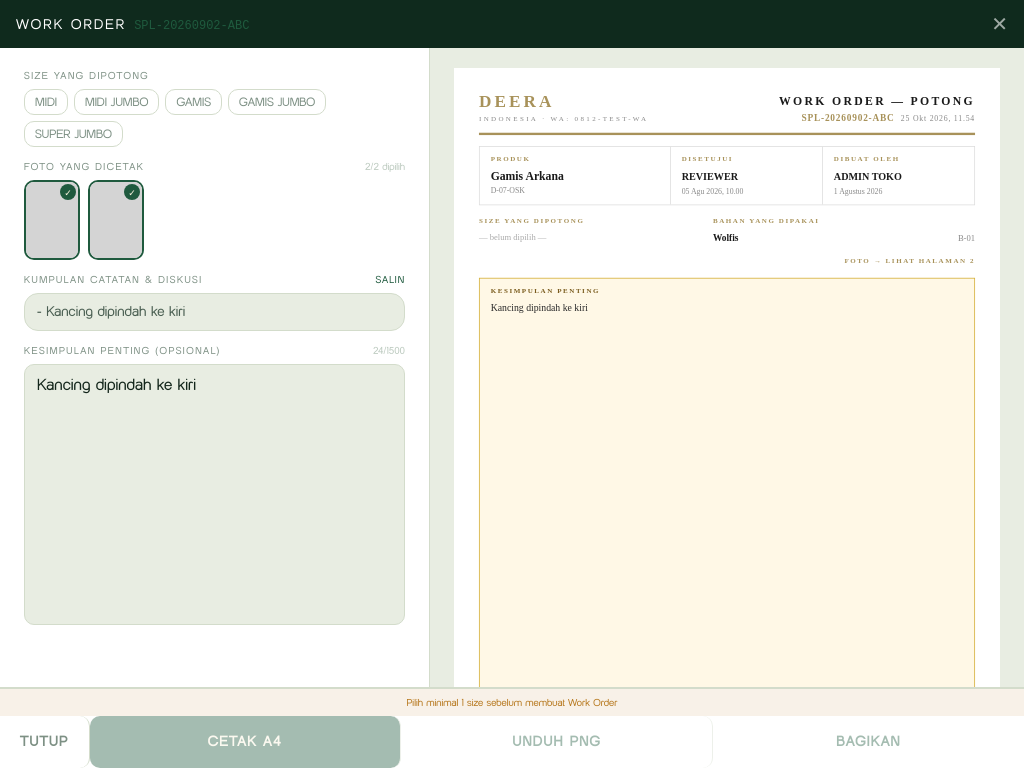
Test case: WorkOrderModal (permintaan Denny 2026-09: Work Order untuk tukang potong) › klik size lagi membatalkan pilihan (toggle)
The image size is (1024, 768).
Click the button "Midi" at (46, 102), box [24,89,68,115]
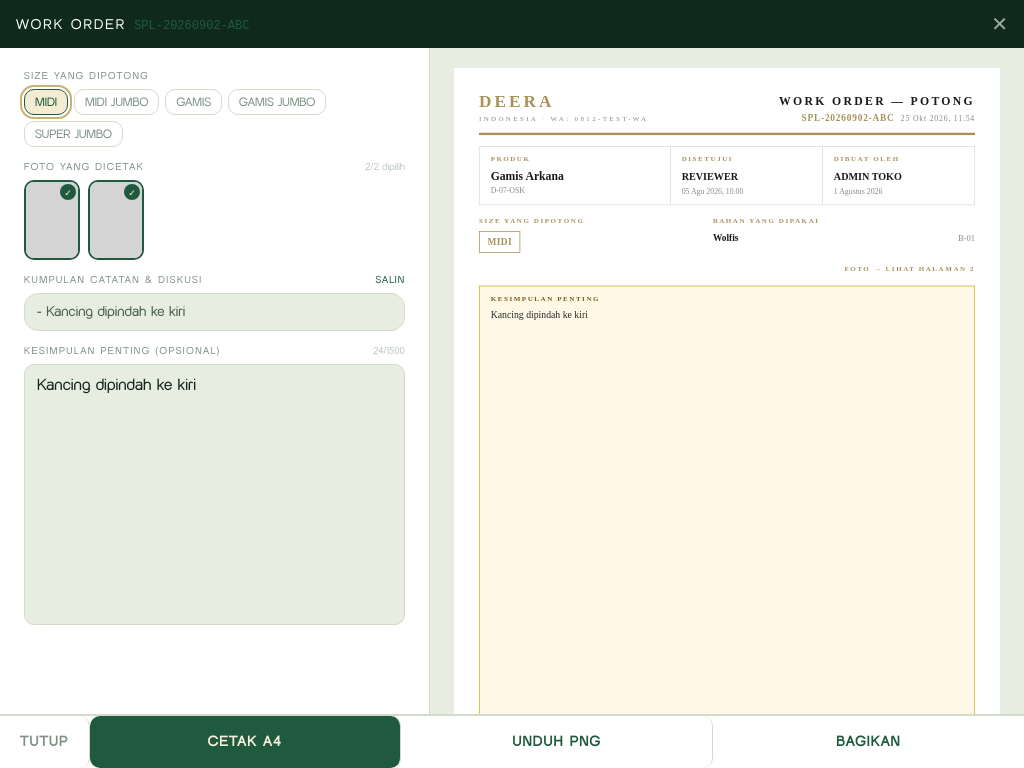
Expected: the button "Unduh PNG" is enabled, [401,716,713,767]
Click the button "Midi" at (46, 102), box [24,89,68,115]
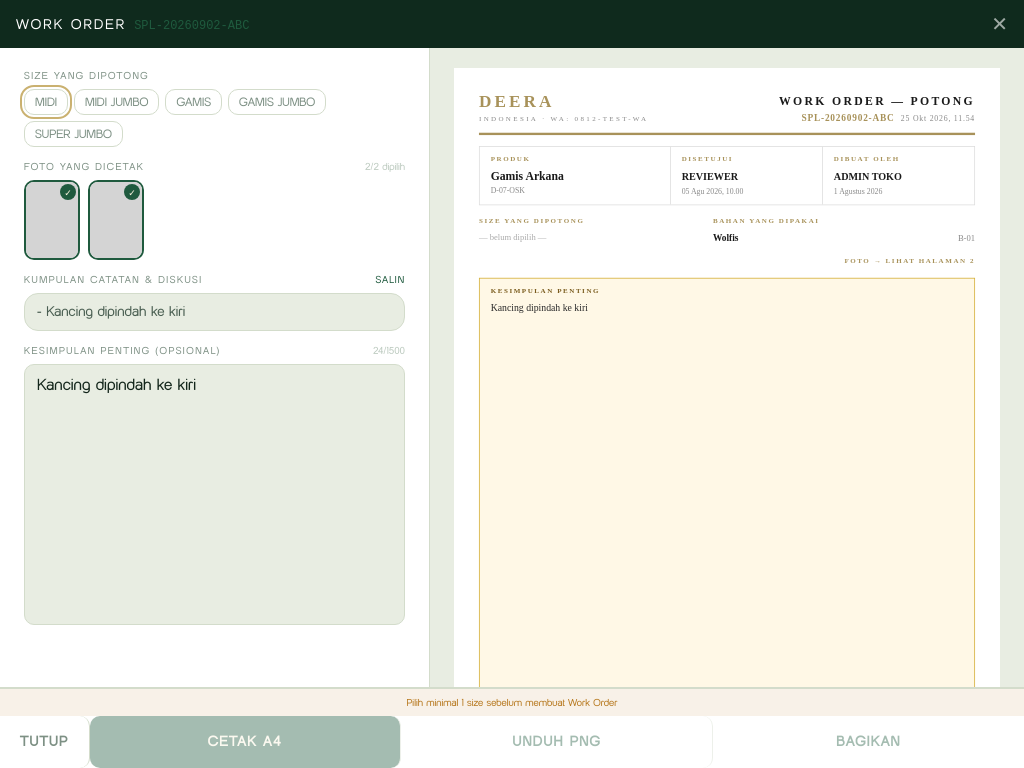
Expected: the button "Unduh PNG" is disabled, [401,716,713,767]
